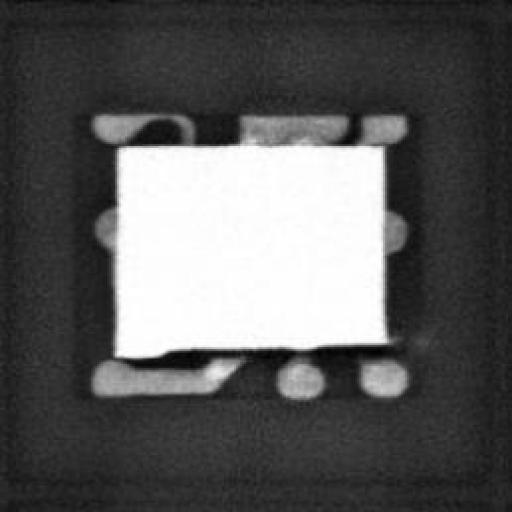DIE_BROKEN: (147, 336, 393, 360)
